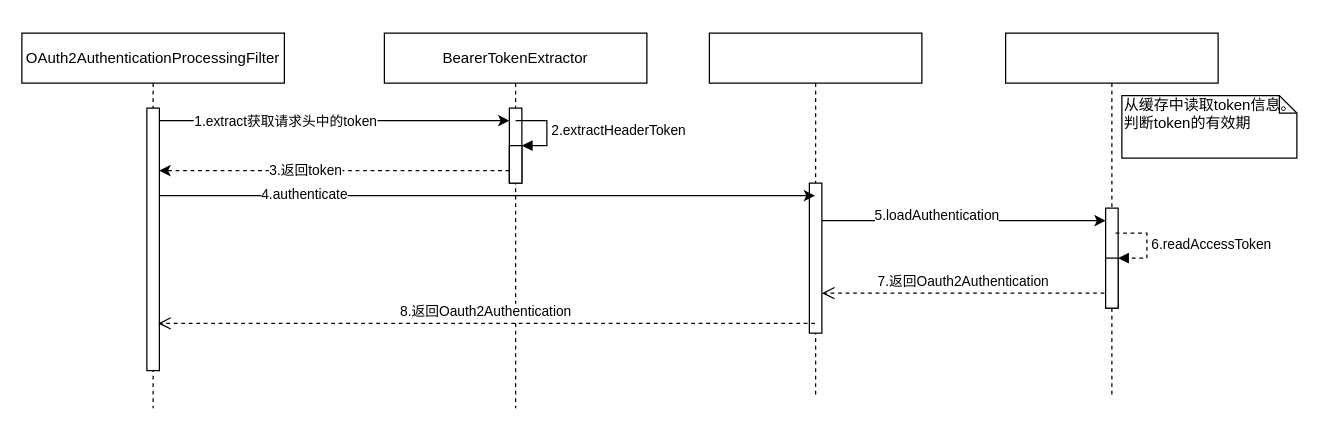
This 1319x430 diagram has some shape labels left out. The shapes that lost their labels are listed below. From the top down, each one's box as (x1, y1, x2, y2) in pixels, then its label:
(708, 32, 922, 396): OAuth2AuthenticationManager
(1004, 32, 1218, 396): DefaultTokenServices
